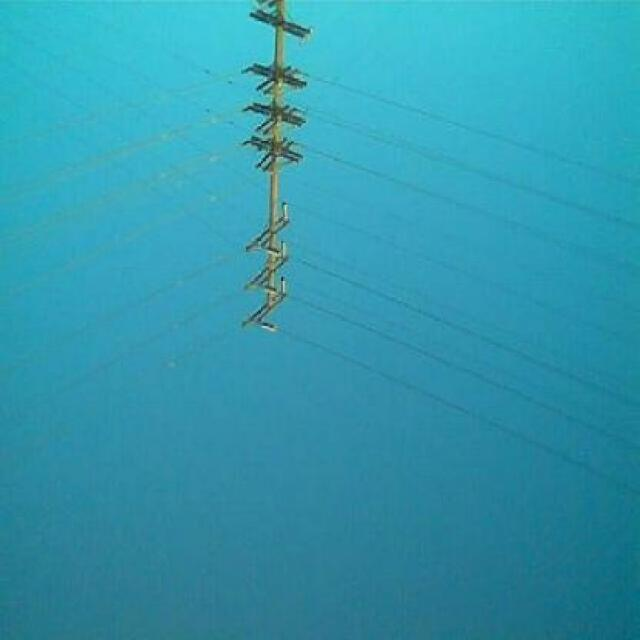pole: (236, 0, 322, 343)
